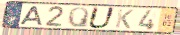2: (45, 5, 66, 28)
4: (137, 9, 156, 31)
A: (18, 5, 44, 26)
K: (114, 8, 135, 30)
Q: (67, 6, 91, 29)
U: (86, 6, 118, 30)
